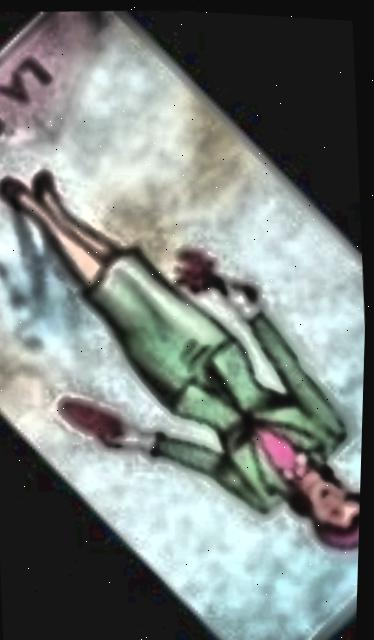La Dama: (0, 13, 366, 640)
